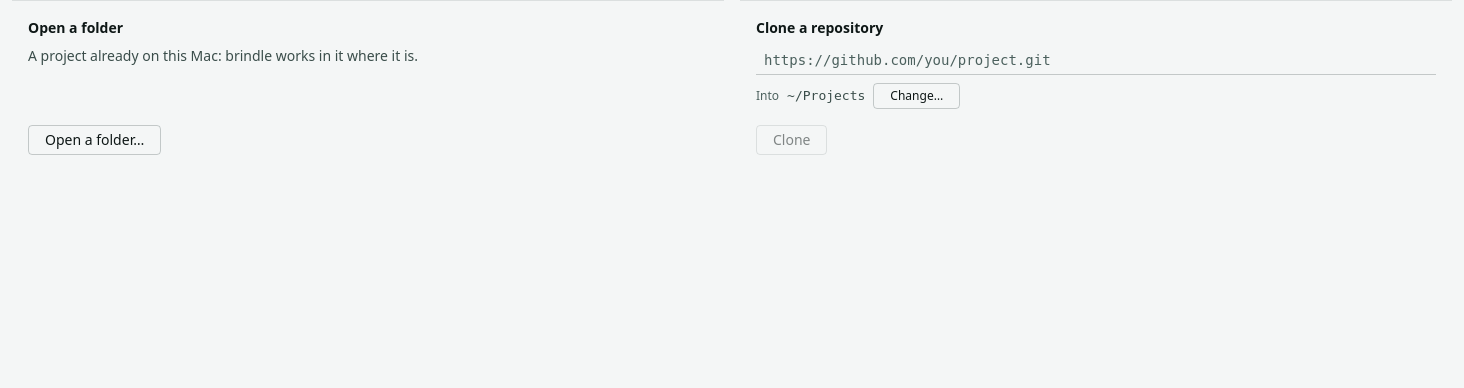
Test: ProjectPicker › onboarding's Pick a project shows git's own words when the clone's auth fails, and Retry clones again inline
The width and height of the screenshot is (1464, 388).
Click the button "Change…" at (917,96), box [873,83,960,109]
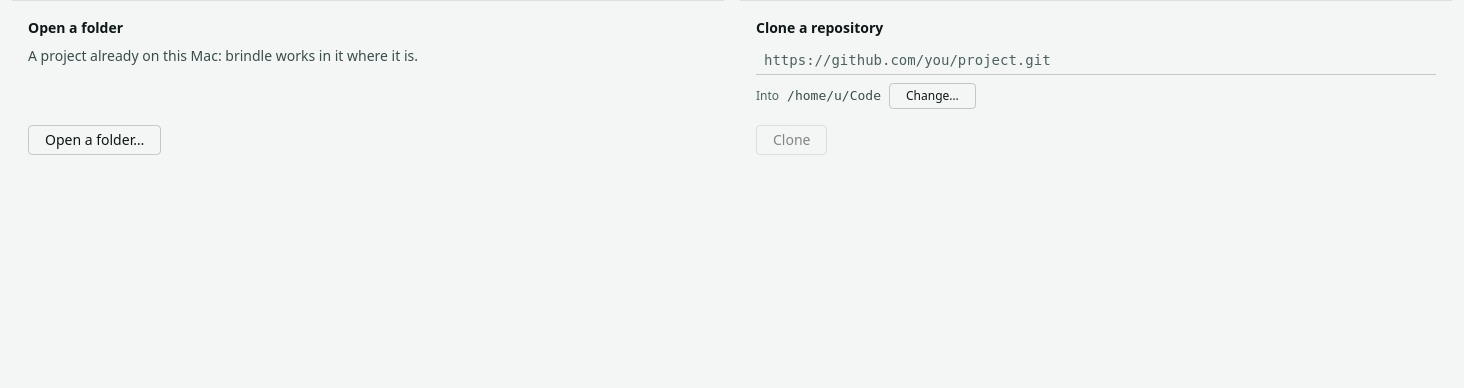
Expected: the text with test id "clone-parent" reads "/home/u/Code", [787,88,881,103]
Type "https://github.com/sam/proj.git" into the field named "Repository URL" at (1096,60), box [756,46,1436,75]
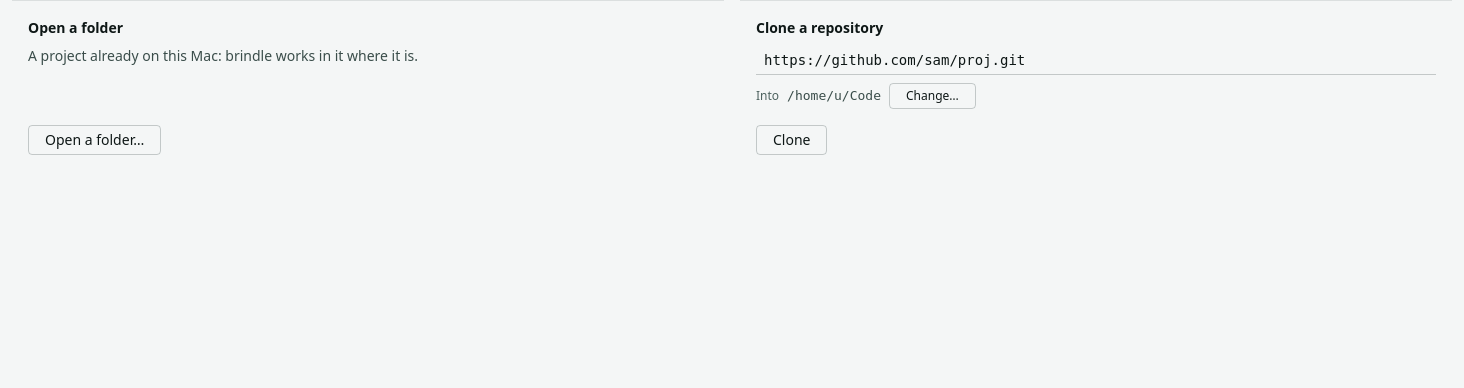
Click the button "Clone" at (792,140), box [756,125,828,155]
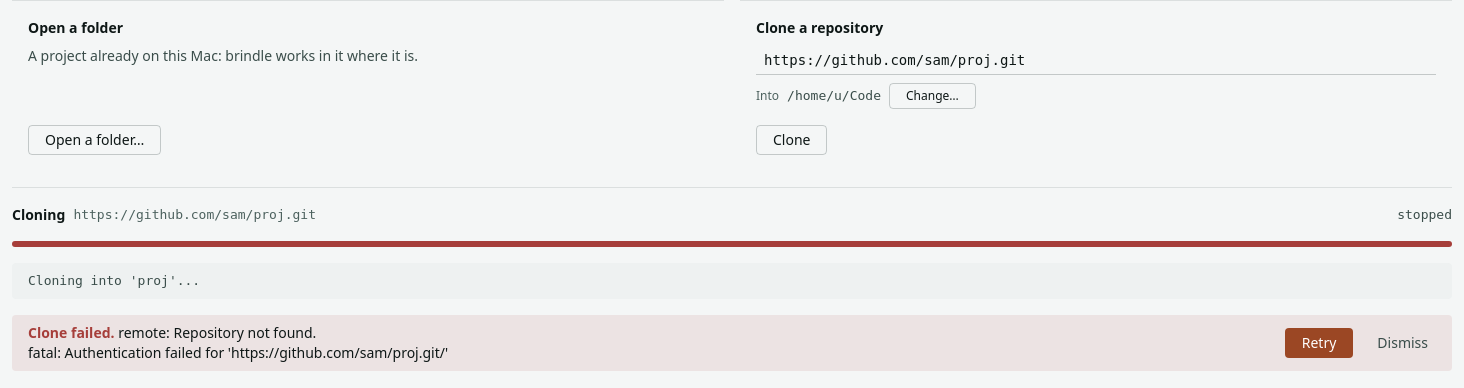
Expected: the message with test id "clone-failed" shows "Clone failed.", [28,322,114,342]
Click the button "Retry" at (1319,342), box [1285,328,1353,358]
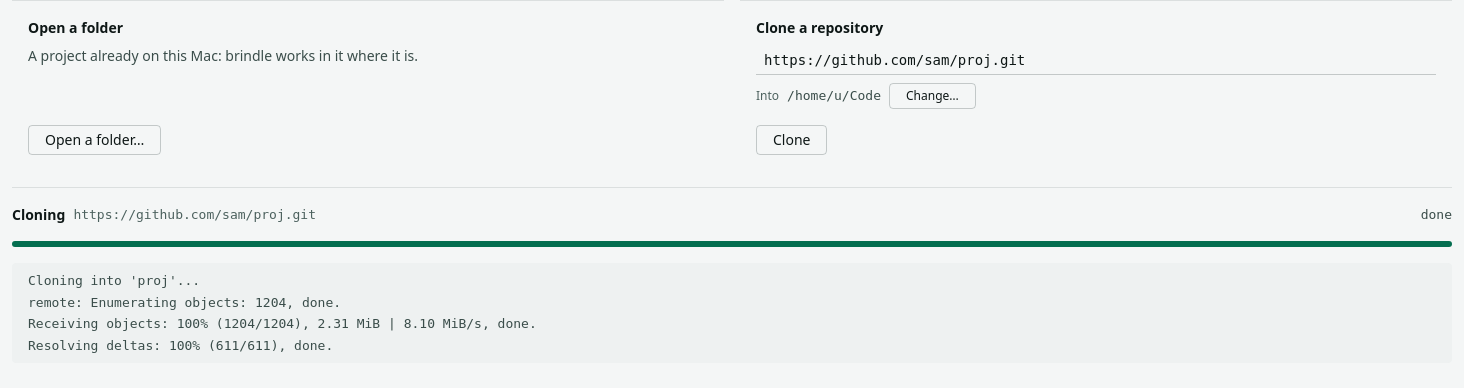
Expected: the message with test id "clone-failed" is gone
